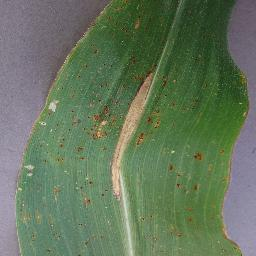Corn_Blight: (106, 58, 157, 213), (9, 176, 102, 251), (20, 87, 74, 172), (53, 9, 105, 91), (170, 144, 210, 245), (209, 145, 244, 251), (78, 94, 108, 158), (178, 42, 204, 109), (157, 68, 176, 134), (104, 0, 142, 32), (239, 59, 252, 127)
